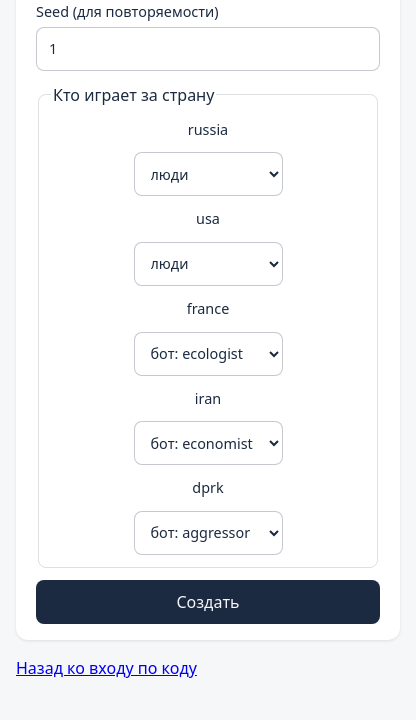
Test: NewGamePage › shows the server error and keeps the form
(page scrolled)
Click the button "Создать" at coordinates (208, 602), box [36,580,380,624]
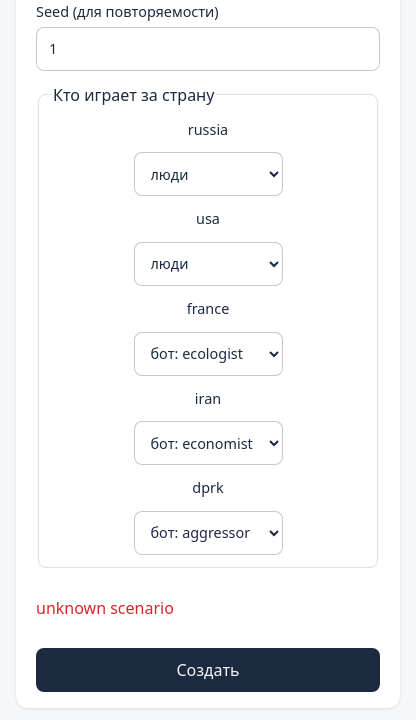
Check: the button "Создать" is enabled, box [36,648,380,692]
Check: the message reads "unknown scenario", box [36,597,174,619]
